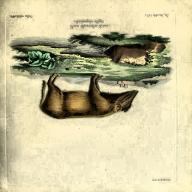boar: (38, 72, 139, 120)
